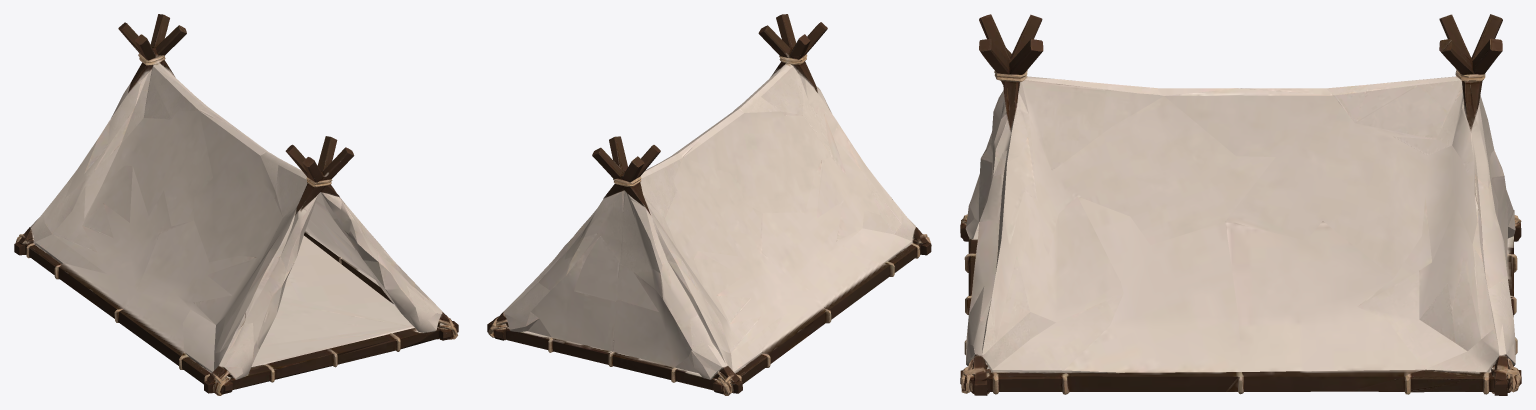
File: tent.glb
The picture shows the model from 3 angles, left to right: view 1: azimuth 30°, elevation 25°; view 2: azimuth 150°, elevation 25°; view 3: azimuth 270°, elevation 25°; orthographic projection. The views are drawn at different scales.
Visible parts, largest first — view 1: Tent · canonical metres · front +Z; view 2: Tent · canonical metres · front +Z; view 3: Tent · canonical metres · front +Z.
Boxes of the visible parts, box(x1,y1,x2,y2) form: Tent · canonical metres · front +Z: box(14, 14, 458, 395); Tent · canonical metres · front +Z: box(487, 14, 931, 395); Tent · canonical metres · front +Z: box(960, 14, 1521, 395).
Bounding box in the file's own units: 3.26 × 2.6 × 4.58.
Materials: 1 (1 with a texture image).
